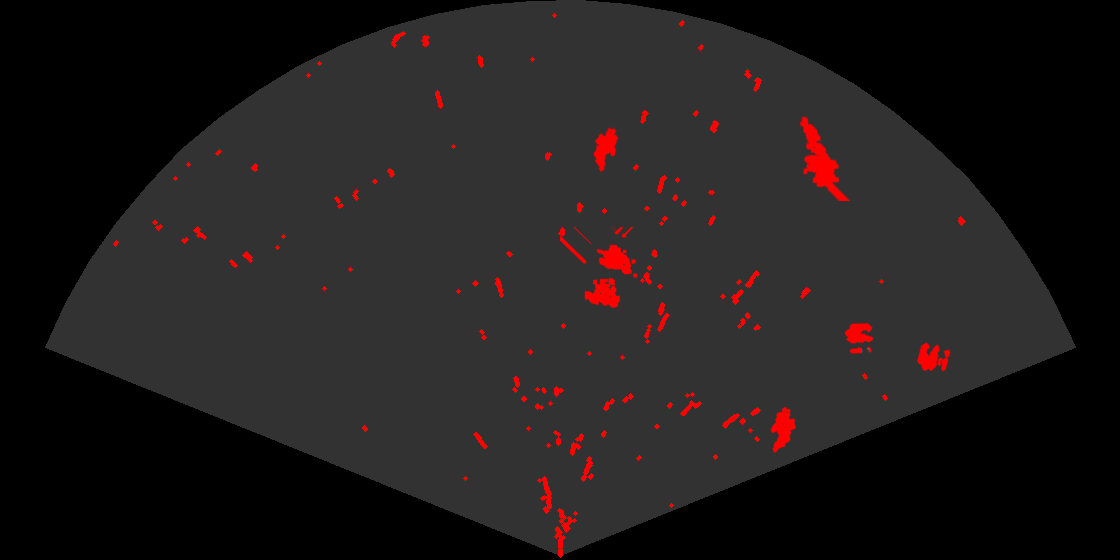AUV: (769, 405, 798, 455), (592, 126, 620, 173)
ball: (916, 341, 952, 373), (843, 322, 875, 355)
cage: (560, 227, 639, 310)
frogman: (798, 115, 852, 201)
